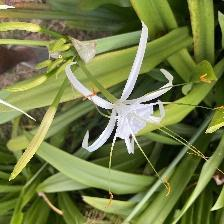spider lily: (92, 89, 177, 153)
